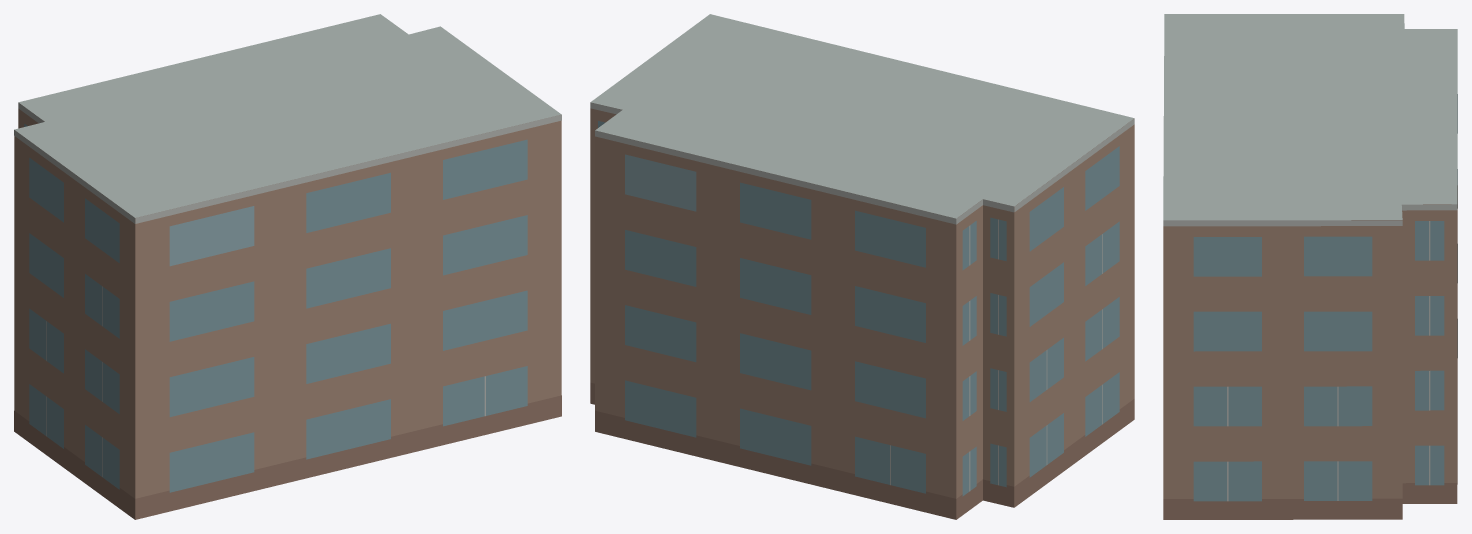
Rendered from survey-upis-32822962.glb.
3 renders of one model, left to right at view 1: azimuth 30°, elevation 25°; view 2: azimuth 150°, elevation 25°; view 3: azimuth 270°, elevation 25°, orthographic.
Parts seen in each view (by area): view 1: survey-upis-32822962.tmp; view 2: survey-upis-32822962.tmp; view 3: survey-upis-32822962.tmp.
Part boxes in pixels (<box>): survey-upis-32822962.tmp: <box>14,14,561,519</box>; survey-upis-32822962.tmp: <box>590,14,1134,519</box>; survey-upis-32822962.tmp: <box>1163,14,1457,519</box>.
Bounding box in the file's own units: 18.04 × 12.2 × 10.88.
